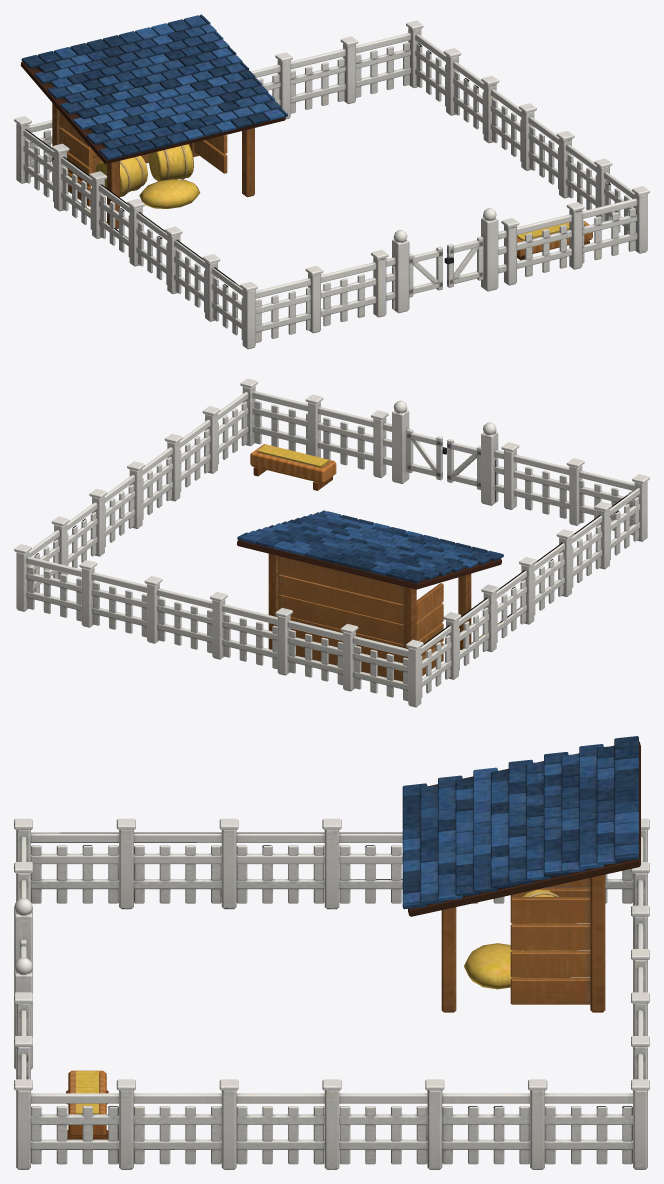
File: suffolk_fold.glb
3 views of the same model, one above another, from view 1: azimuth 30°, elevation 25°; view 2: azimuth 150°, elevation 25°; view 3: azimuth 270°, elevation 25° (orthographic). The views are drawn at different scales.
Visible parts, largest first — view 1: suffolk_fold, gate1, gate0; view 2: suffolk_fold, gate1, gate0; view 3: suffolk_fold.
Part boxes in pixels (left/top/right/bottom): suffolk_fold: left=14, top=14, right=649, bottom=349; gate1: left=444, top=236, right=483, bottom=287; gate0: left=409, top=246, right=442, bottom=297; suffolk_fold: left=14, top=378, right=649, bottom=707; gate1: left=406, top=429, right=446, bottom=480; gate0: left=447, top=439, right=480, bottom=489; suffolk_fold: left=14, top=736, right=649, bottom=1169.
Size of the model in its own units: 2.99 by 0.9346 by 2.99.
Materials: 1 (1 with a texture image).
